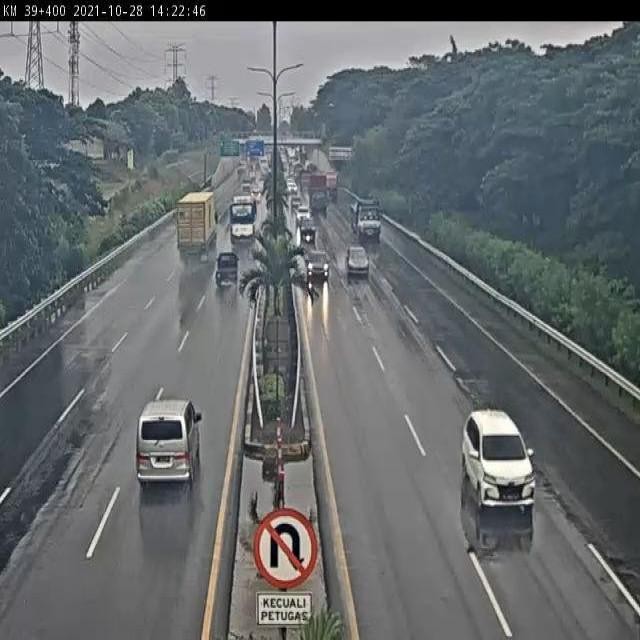bus-l-: (227, 192, 257, 243)
car: (346, 245, 369, 279)
truck-l-: (347, 193, 382, 244)
truck-xl-: (176, 188, 219, 260)
